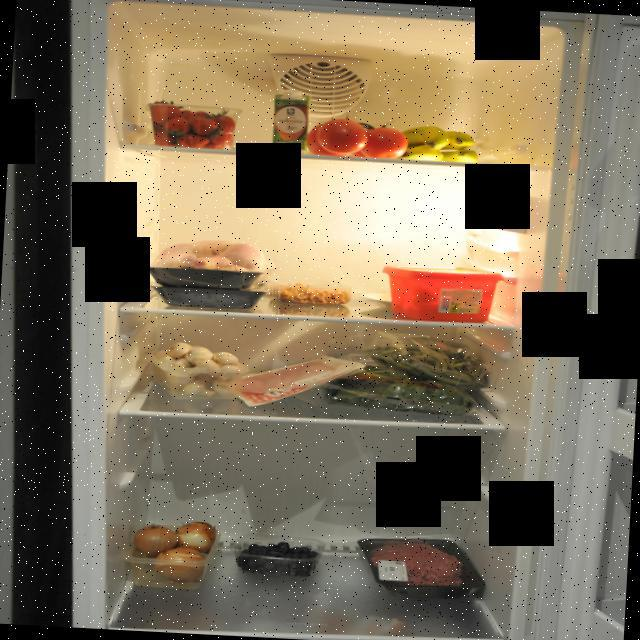Carne cerdo: (242, 354, 340, 412)
Carne pollo: (138, 232, 282, 292)
Cebolla: (130, 515, 216, 583)
Champiñones: (146, 339, 248, 405)
Gambas/Langostinos: (269, 278, 360, 308)
Mantequilla: (386, 262, 510, 327)
Plátano: (398, 121, 488, 165)
Tomate: (306, 111, 412, 163)
